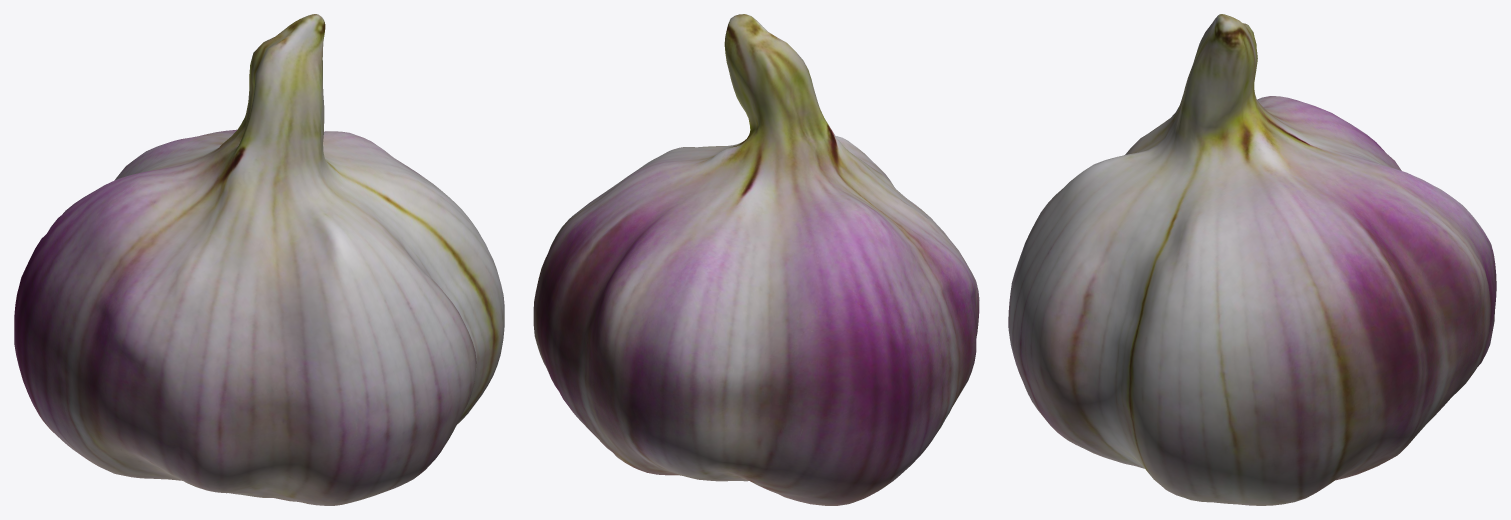
File: garlic.glb
The picture shows the model from 3 angles, left to right: view 1: azimuth 30°, elevation 25°; view 2: azimuth 150°, elevation 25°; view 3: azimuth 270°, elevation 25°; orthographic projection. The views are drawn at different scales.
Parts seen in each view (by area): view 1: mesh_base_material_0; view 2: mesh_base_material_0; view 3: mesh_base_material_0.
Boxes of the visible parts, box(x1,y1,x2,y2) form: mesh_base_material_0: box(14, 14, 504, 505); mesh_base_material_0: box(533, 14, 979, 505); mesh_base_material_0: box(1008, 14, 1496, 505).
Size of the model in its own units: 0.968 by 0.9954 by 0.9895.
1 material, 1 textured.
